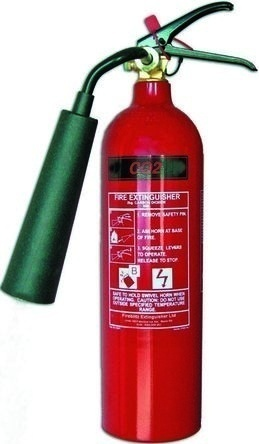fire_extinguisher: (0, 1, 258, 443)
